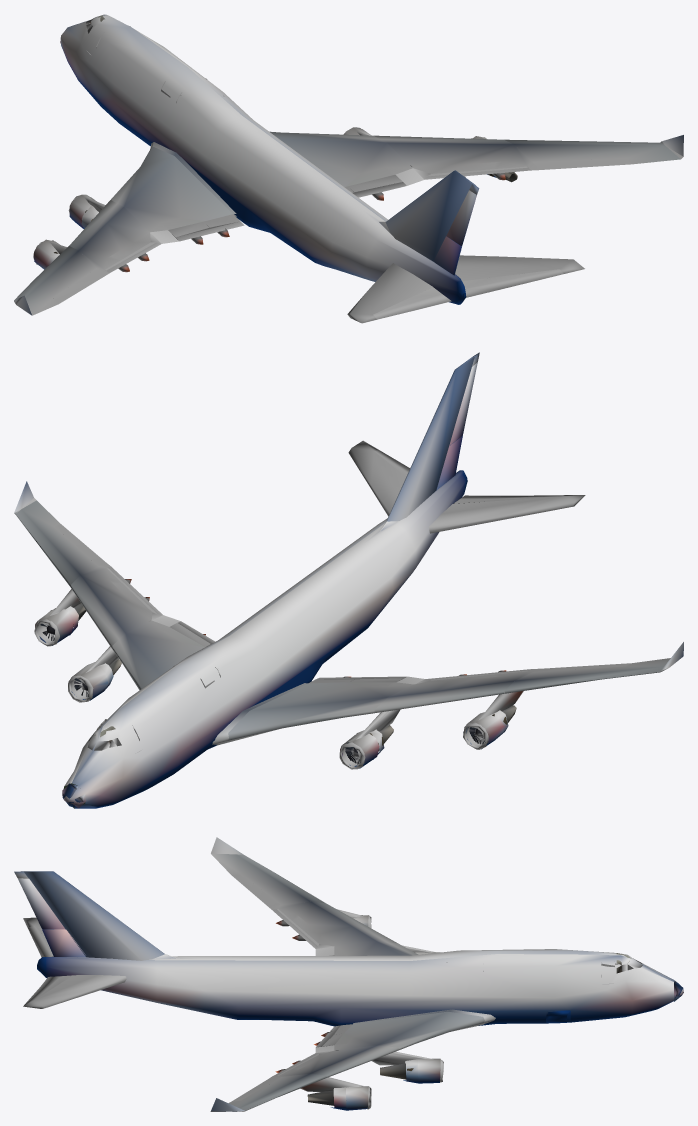
3 views of the same model, one above another, from view 1: azimuth 30°, elevation 25°; view 2: azimuth 150°, elevation 25°; view 3: azimuth 270°, elevation 25° (orthographic). The views are drawn at different scales.
Bounding box in the file's own units: 65.32 × 18.35 × 70.9.
